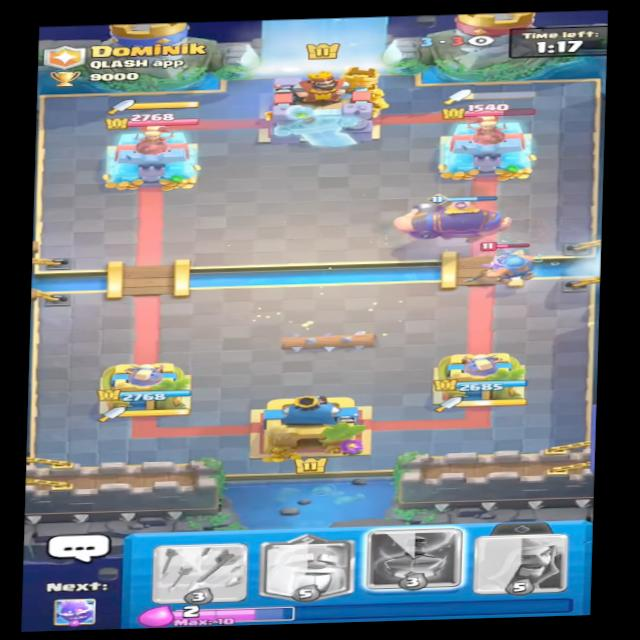Littleprince: (483, 239, 525, 271)
